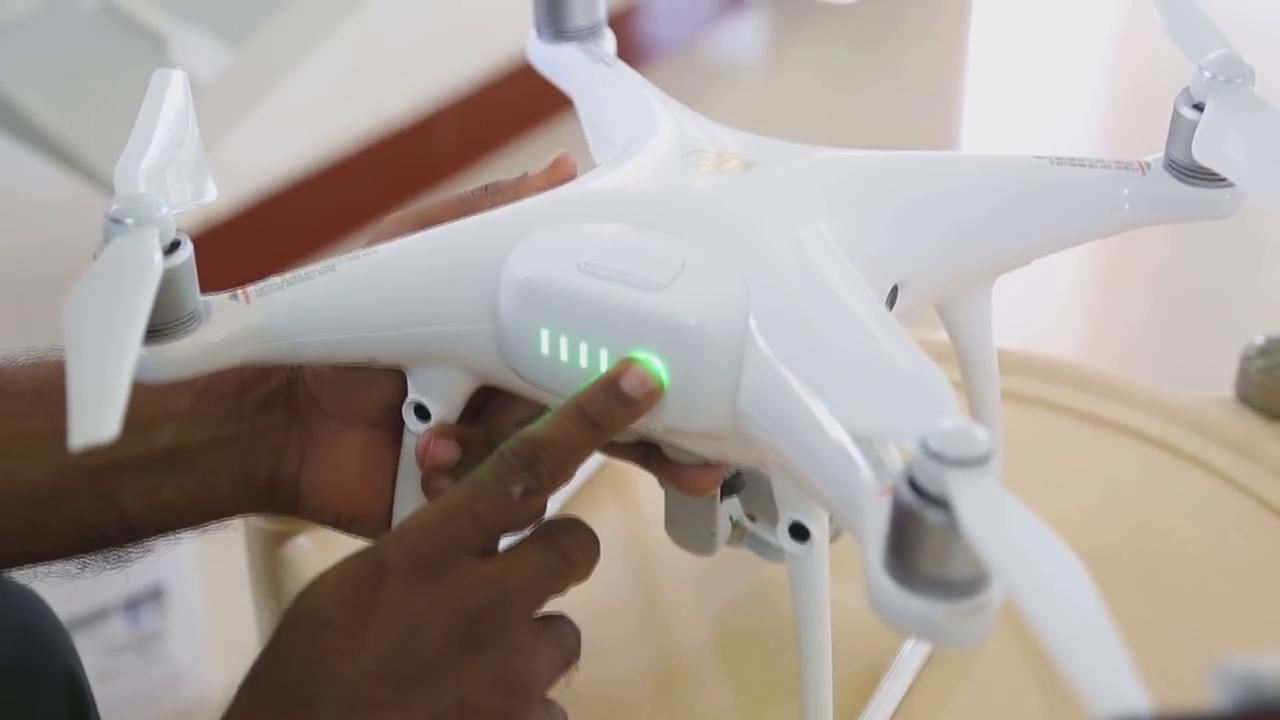drone: (54, 4, 1280, 694)
